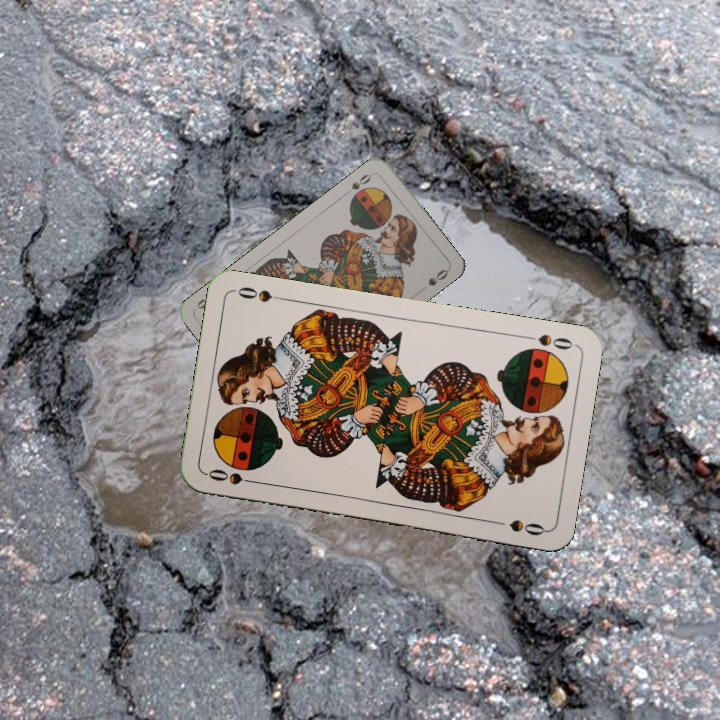SO: (203, 465, 262, 487), (518, 330, 576, 352), (341, 168, 377, 197)
